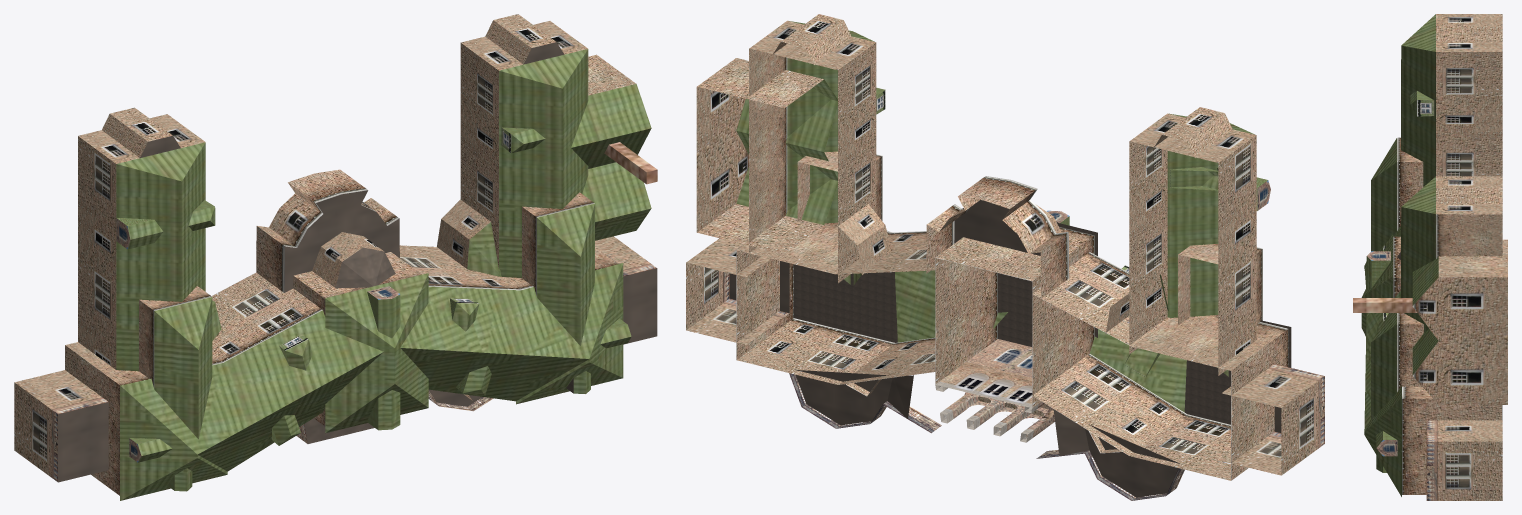
The model's file is pinkpalace280_wtf.obj.
3 renders of one model, left to right at view 1: azimuth 30°, elevation 25°; view 2: azimuth 150°, elevation 25°; view 3: azimuth 270°, elevation 25°, orthographic. The views are drawn at different scales.
Parts seen in each view (by area): view 1: group2; view 2: group2; view 3: group2.
Part boxes in pixels (x1,y1,x2,y2): group2: [14, 14, 657, 500]; group2: [686, 14, 1324, 500]; group2: [1353, 14, 1507, 500].
Bounding box in the file's own units: 660 × 396 × 170.
